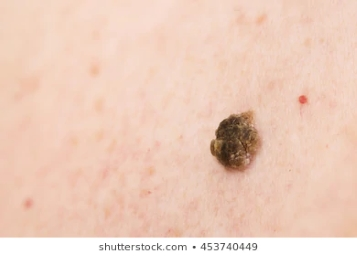seborrheic keratosis: (202, 97, 271, 181)
